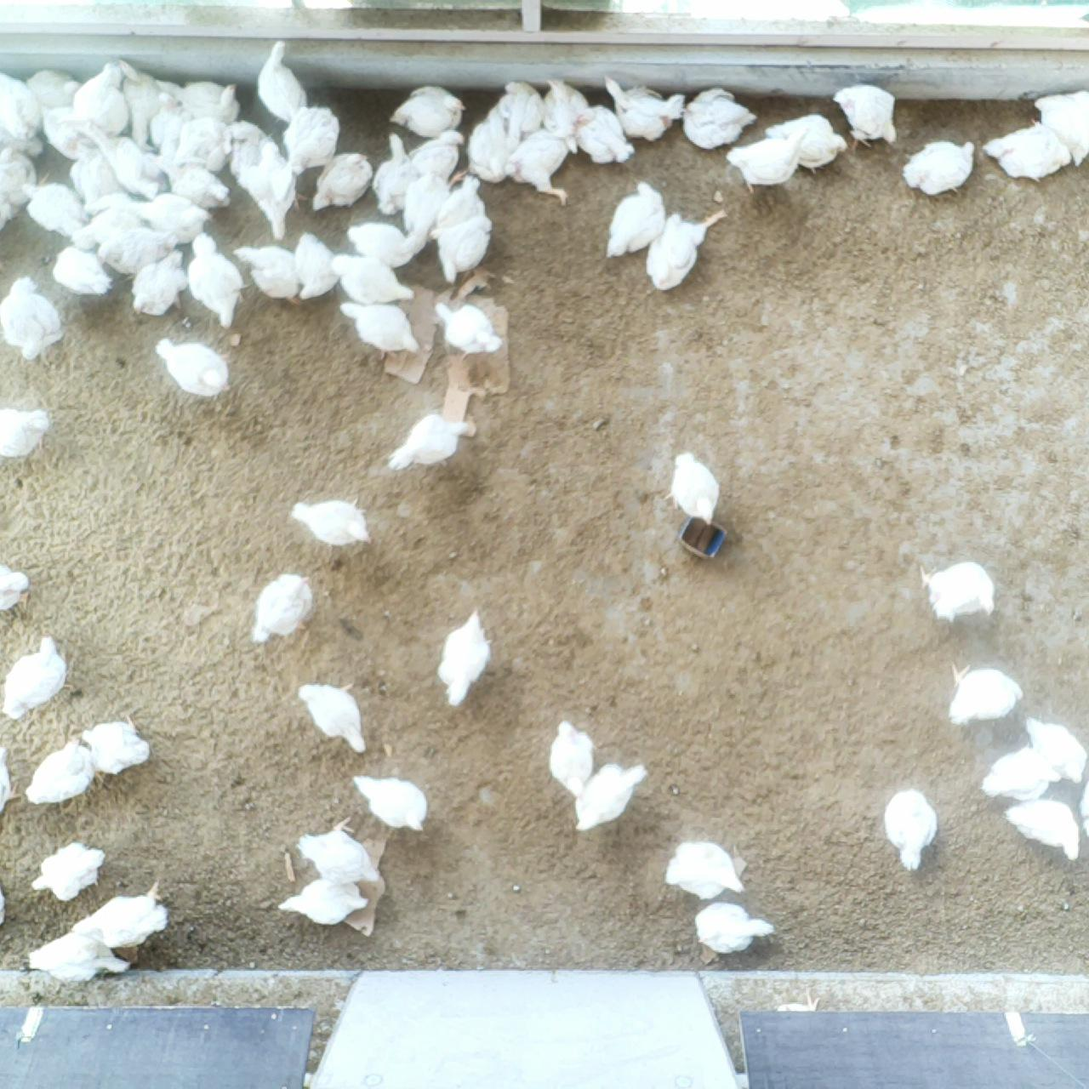chicken: (430, 176, 495, 288), (645, 207, 729, 291), (70, 879, 170, 949), (82, 119, 169, 199), (245, 138, 310, 244), (726, 124, 814, 198), (981, 116, 1074, 185), (0, 630, 70, 720), (187, 231, 249, 332), (295, 814, 383, 885), (572, 760, 651, 838), (436, 606, 496, 707), (293, 681, 372, 756), (502, 129, 576, 207), (27, 930, 132, 984), (1001, 794, 1082, 864), (603, 75, 686, 143), (0, 274, 64, 362), (386, 411, 471, 476), (663, 837, 748, 902), (916, 558, 999, 624), (944, 660, 1027, 726), (659, 447, 725, 530), (763, 113, 851, 175), (977, 742, 1063, 804), (681, 86, 762, 151), (276, 877, 373, 931), (23, 738, 98, 807), (604, 179, 667, 261), (883, 786, 942, 873), (339, 299, 423, 360), (153, 335, 232, 399), (349, 772, 429, 835), (30, 840, 108, 904), (250, 572, 317, 646), (831, 82, 900, 151), (127, 192, 215, 246), (0, 146, 54, 233), (1023, 714, 1089, 785), (80, 713, 152, 778), (901, 139, 979, 199), (329, 252, 417, 305), (230, 242, 304, 305), (255, 39, 311, 122), (388, 83, 469, 140), (67, 138, 131, 210), (1033, 87, 1089, 169), (692, 902, 777, 956), (154, 76, 245, 126), (289, 498, 376, 549), (154, 155, 234, 210), (432, 301, 504, 361), (466, 104, 520, 184), (73, 59, 131, 133), (117, 58, 166, 145), (310, 150, 375, 215), (569, 104, 636, 167), (282, 104, 343, 173), (130, 248, 190, 318), (540, 75, 591, 157), (20, 180, 89, 240), (344, 220, 426, 270), (547, 718, 597, 799), (374, 131, 421, 217), (406, 129, 472, 190), (292, 228, 341, 302), (50, 243, 114, 299), (174, 115, 236, 172), (38, 102, 96, 160), (71, 206, 143, 251), (0, 70, 44, 141), (403, 175, 452, 238), (147, 90, 190, 160), (497, 79, 549, 136), (0, 405, 51, 460), (226, 120, 268, 180), (24, 70, 84, 109), (0, 557, 31, 615)
